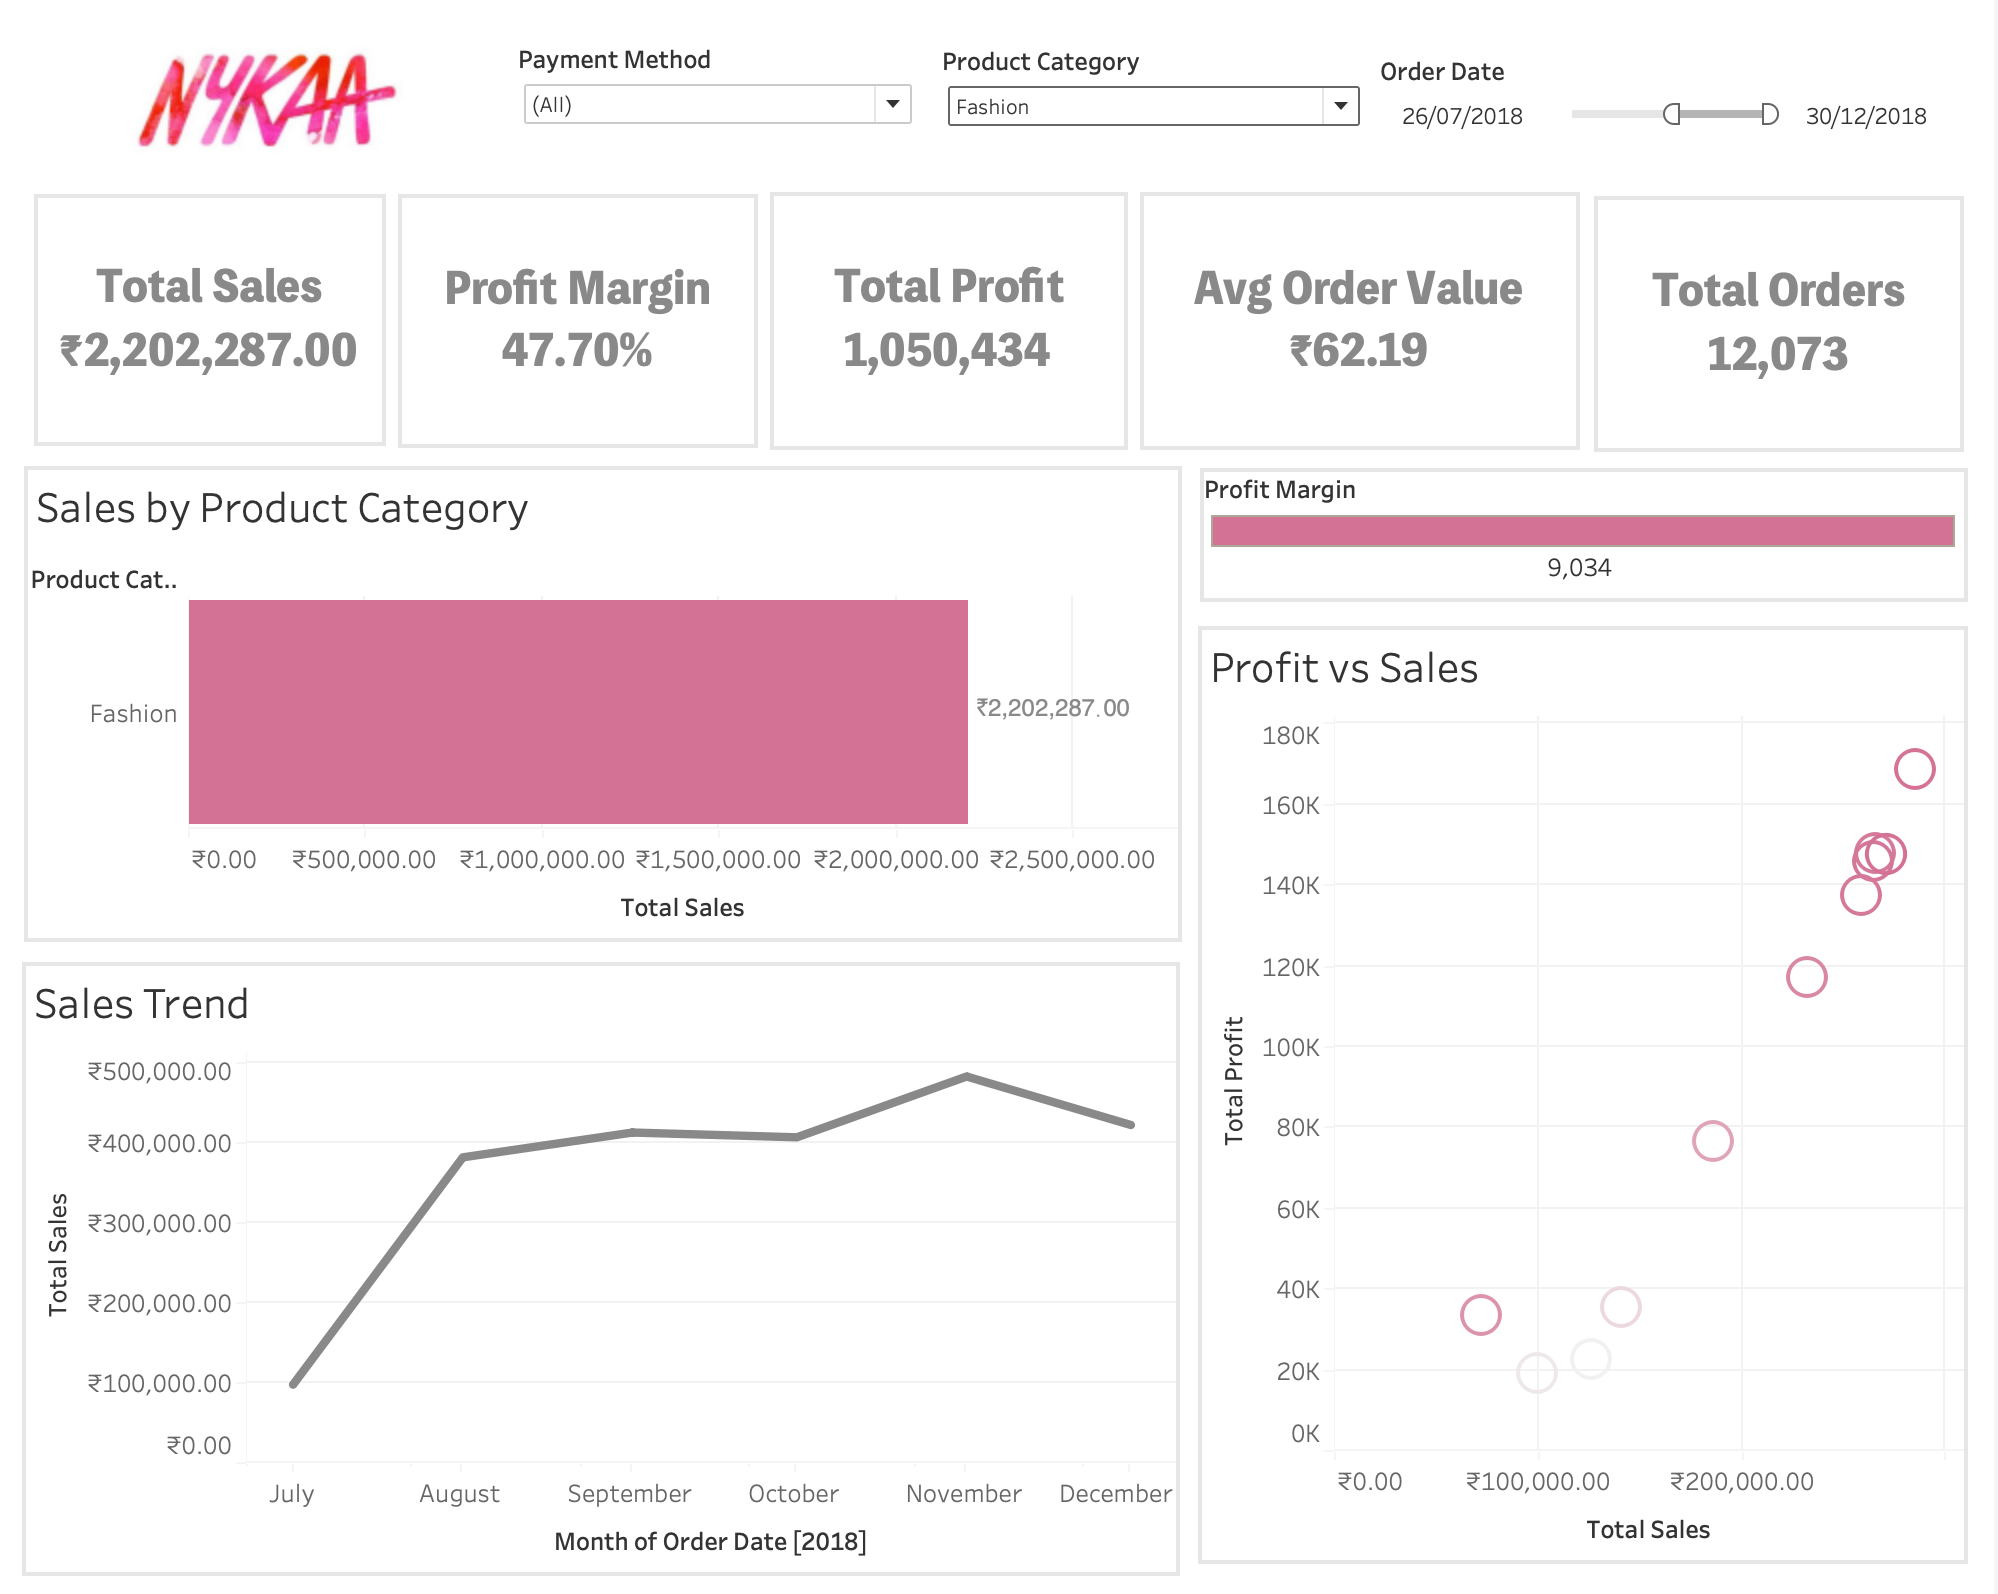

Layout of this report page (visuals, bound fields, positions):
{"tool":"tableau","page":{"name":"Dashboard 1","canvas":[1000,800],"ordinal":0},"visuals":[{"type":"image","param":"/Users/ishitanadar/Downloads/ .jpg","box":[18,11,239,79]},{"type":"filter","title":"Sheet 8","param":"[federated.0115nwj1jb8lq31cy44iq15bpglm].[none:payment_method:nk]","box":[262,21,200,58]},{"type":"filter","title":"Sheet 6","param":"[federated.0115nwj1jb8lq31cy44iq15bpglm].[none:product_category:nk]","box":[474,22,212,66]},{"type":"filter","title":"Sheet 8","param":"[federated.0115nwj1jb8lq31cy44iq15bpglm].[none:order_date:qk]","box":[693,27,287,63]},{"type":"worksheet","title":"Sheet 5","mark":"Automatic","box":[388,96,179,129]},{"type":"worksheet","title":"Sheet 3","mark":"Text","box":[573,96,220,129]},{"type":"worksheet","title":"Sheet 1","mark":"Automatic","box":[20,97,176,126]},{"type":"worksheet","title":"Sheet 2","mark":"Text","box":[202,97,180,127]},{"type":"worksheet","title":"Sheet 4","mark":"Automatic","box":[800,98,185,128]},{"type":"worksheet","title":"Sheet 7","mark":"Bar","rows":["product_category"],"cols":["Calculation_0098373079027712"],"box":[15,233,579,238]},{"type":"legend","title":"Sheet 7","param":"[federated.0115nwj1jb8lq31cy44iq15bpglm].[sum:profit_margin:qk]","box":[603,234,384,67]},{"type":"worksheet","title":"Sheet 8","mark":"Automatic","rows":["Calculation_0098373079572481"],"cols":["Calculation_0098373079027712"],"box":[602,313,385,469]},{"type":"worksheet","title":"Sheet 6","mark":"Automatic","rows":["Calculation_0098373079027712"],"cols":["order_date"],"box":[14,481,579,307]}]}

Visuals, with their boxes in screenshot pixels (x1, y1, x2, y2), scaled from the page's 1000x800 canvas onto the 1998x1594 screenshot:
image: locate(36, 22, 513, 179)
"Sheet 8" filter: locate(523, 42, 923, 157)
"Sheet 6" filter: locate(947, 44, 1371, 175)
"Sheet 8" filter: locate(1385, 54, 1958, 179)
"Sheet 5" worksheet: locate(775, 191, 1133, 448)
"Sheet 3" worksheet (Text marks): locate(1145, 191, 1584, 448)
"Sheet 1" worksheet: locate(40, 193, 392, 444)
"Sheet 2" worksheet (Text marks): locate(404, 193, 763, 446)
"Sheet 4" worksheet: locate(1598, 195, 1968, 450)
"Sheet 7" worksheet (Bar marks): locate(30, 464, 1187, 938)
"Sheet 7" legend: locate(1205, 466, 1972, 600)
"Sheet 8" worksheet: locate(1203, 624, 1972, 1558)
"Sheet 6" worksheet: locate(28, 958, 1185, 1570)
